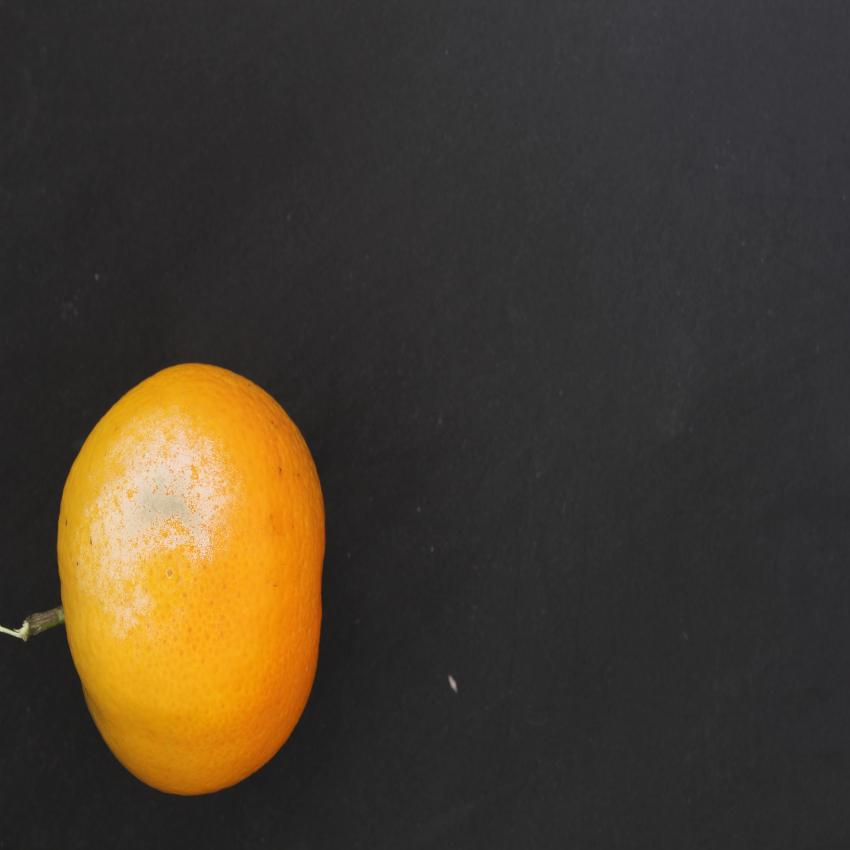Mal estado: (47, 353, 335, 805)
